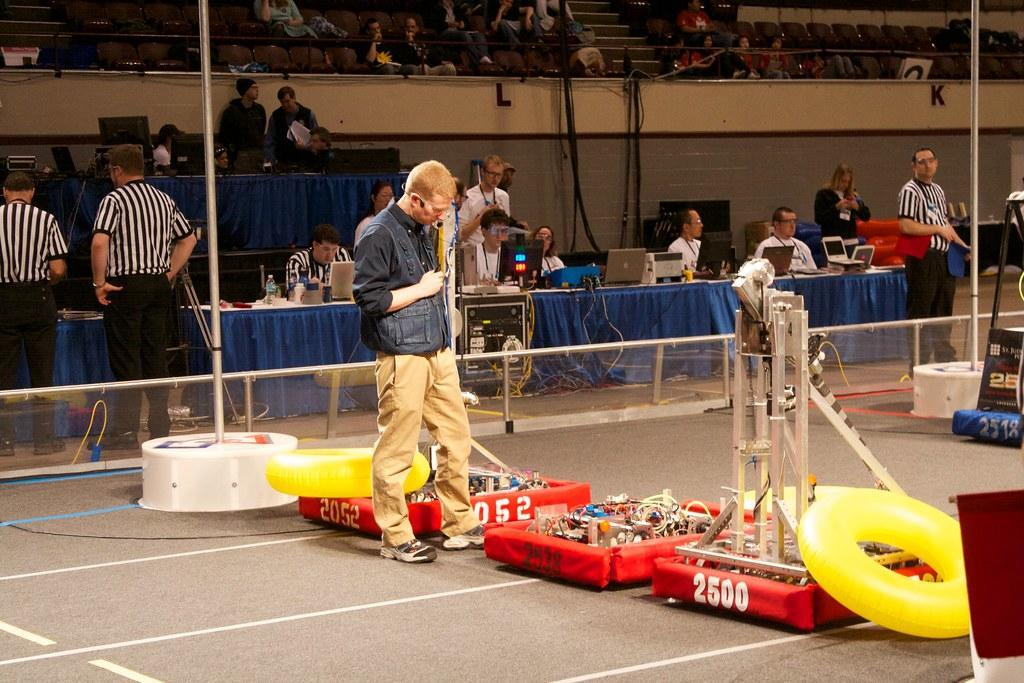robot: (650, 254, 946, 640), (479, 493, 782, 593), (296, 464, 592, 543)
